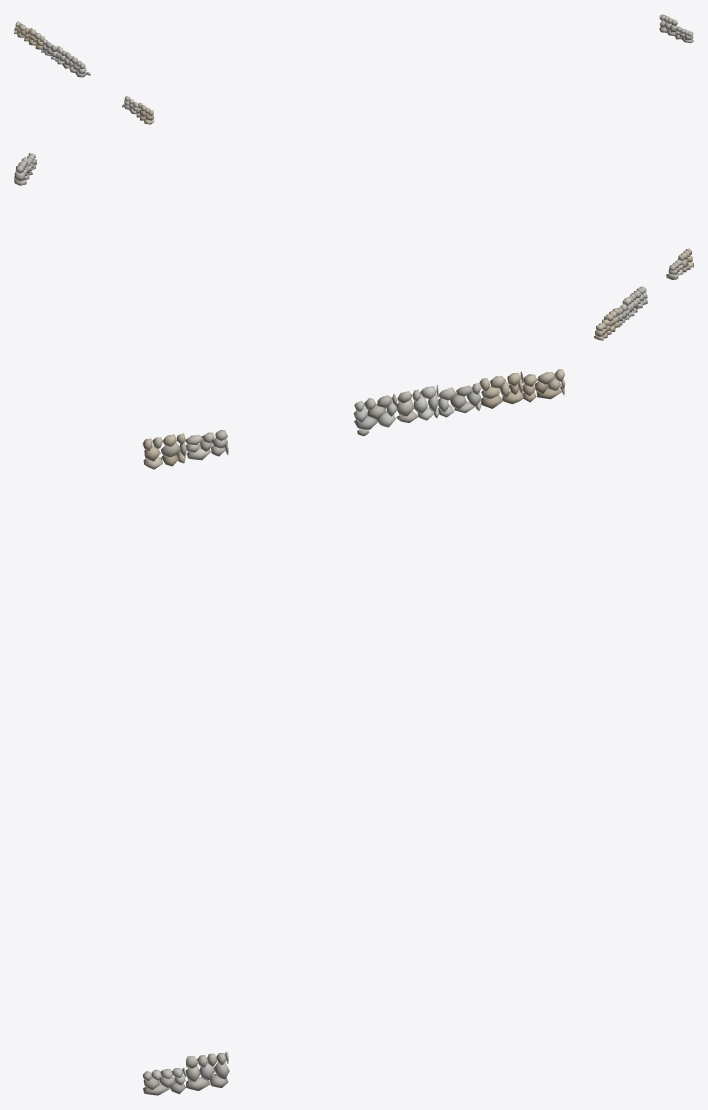
Rendered from farm_-14_-10_near.glb.
3 views of the same model, one above another, from view 1: azimuth 30°, elevation 25°; view 2: azimuth 150°, elevation 25°; view 3: azimuth 270°, elevation 25° (orthographic). The views are drawn at different scales.
Visible parts, largest first — view 1: geometry_0; view 2: geometry_0; view 3: geometry_0.
Boxes of the visible parts, x1,y1,x2,y2 form: geometry_0: (14,14,693,124); geometry_0: (14,153,693,340); geometry_0: (142,369,565,1095).
Bounding box in the file's own units: 47.4 × 6.7 × 15.06.
